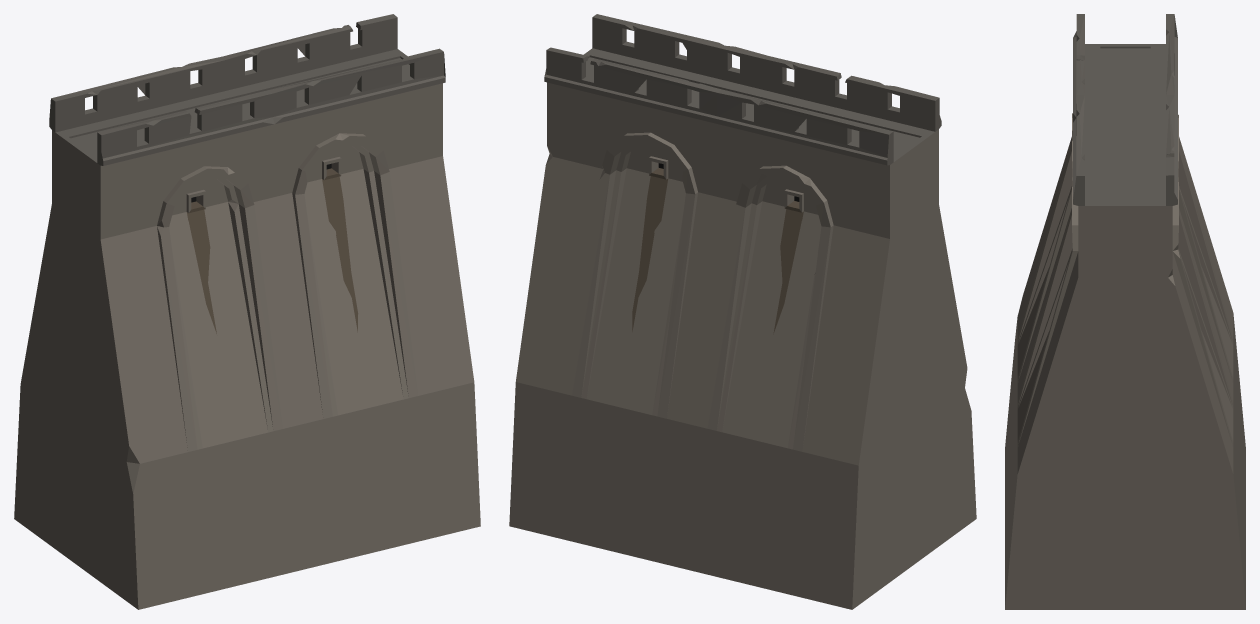
The model's file is SM_Bld_Fort_Wall_01.glb.
3 views of the same model, side by side, from view 1: azimuth 30°, elevation 25°; view 2: azimuth 150°, elevation 25°; view 3: azimuth 270°, elevation 25° (orthographic). The views are drawn at different scales.
Visible parts, largest first — view 1: SM_Bld_Fort_Wall_01_part00; view 2: SM_Bld_Fort_Wall_01_part00; view 3: SM_Bld_Fort_Wall_01_part00.
Boxes of the visible parts, bbox=[...] form: SM_Bld_Fort_Wall_01_part00: bbox=[14, 14, 480, 609]; SM_Bld_Fort_Wall_01_part00: bbox=[509, 14, 976, 609]; SM_Bld_Fort_Wall_01_part00: bbox=[1005, 14, 1245, 609].
Size of the model in its own units: 14.31 by 17.94 by 8.99.
Materials: 1 (1 with a texture image).
